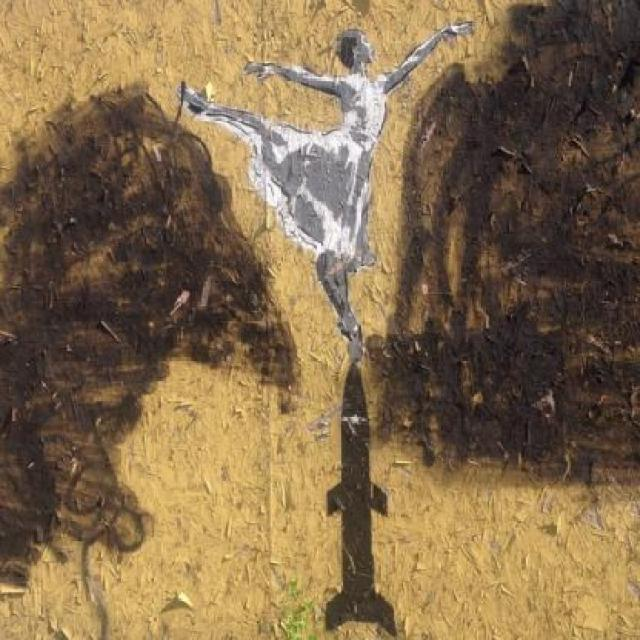Person: (173, 17, 472, 341)
